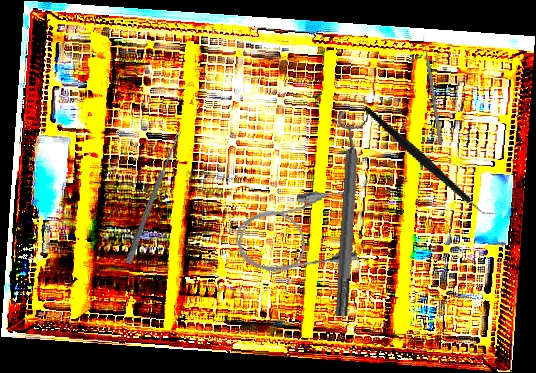Cannula: (230, 184, 367, 281)
Chopper: (364, 77, 498, 247)
Fixation Ring: (322, 111, 372, 317)
Pusher: (421, 31, 443, 145)
Surgical Spoon: (124, 130, 183, 265)
